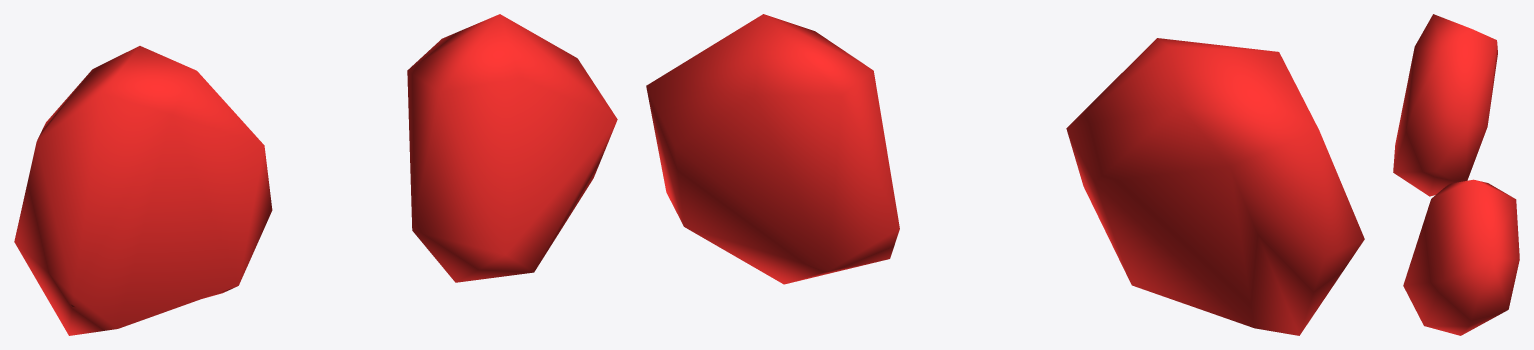
File: red eyes.glb
3 renders of one model, left to right at view 1: azimuth 30°, elevation 25°; view 2: azimuth 150°, elevation 25°; view 3: azimuth 270°, elevation 25°, orthographic. The views are drawn at different scales.
Parts seen in each view (by area): view 1: eyes_red.001; view 2: eyes_red.001; view 3: eyes_red.001.
Part boxes in pixels (bbox=[...]): eyes_red.001: bbox=[14, 14, 617, 335]; eyes_red.001: bbox=[646, 14, 1364, 335]; eyes_red.001: bbox=[1393, 14, 1519, 335].
Size of the model in its own units: 0.064 by 0.0317 by 0.0185.
Materials: 1 (1 with a texture image).
